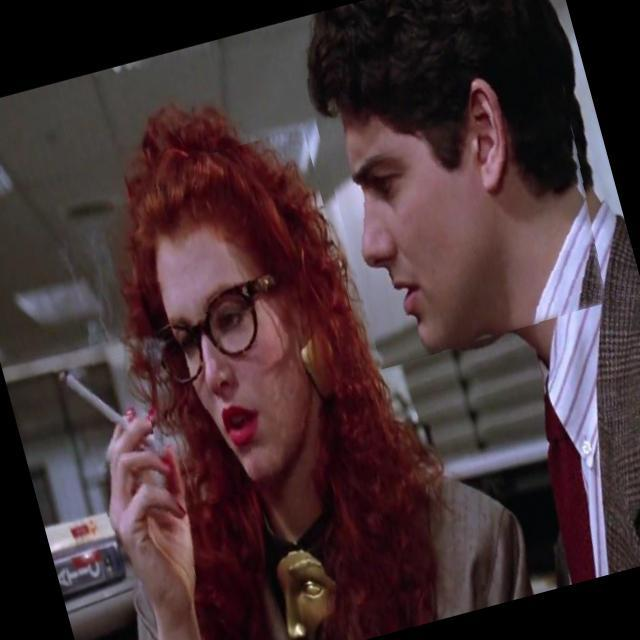cigarette: (42, 343, 158, 474)
